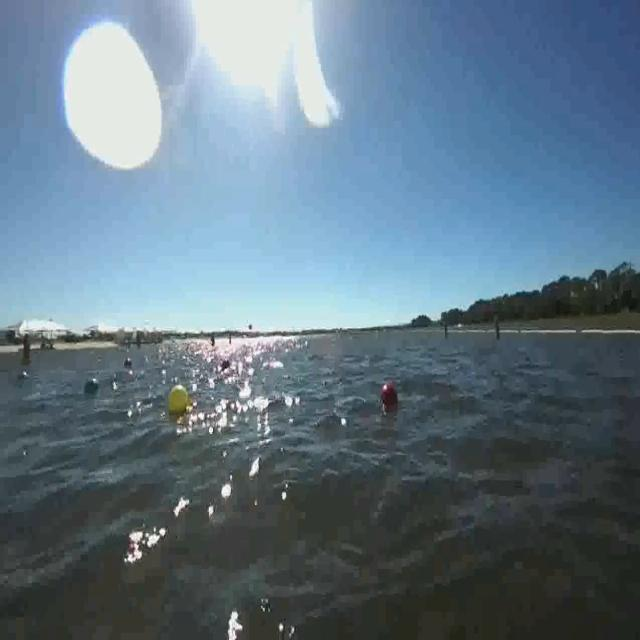red-buoy: (382, 383, 397, 409)
yellow-buoy: (167, 384, 192, 417)
